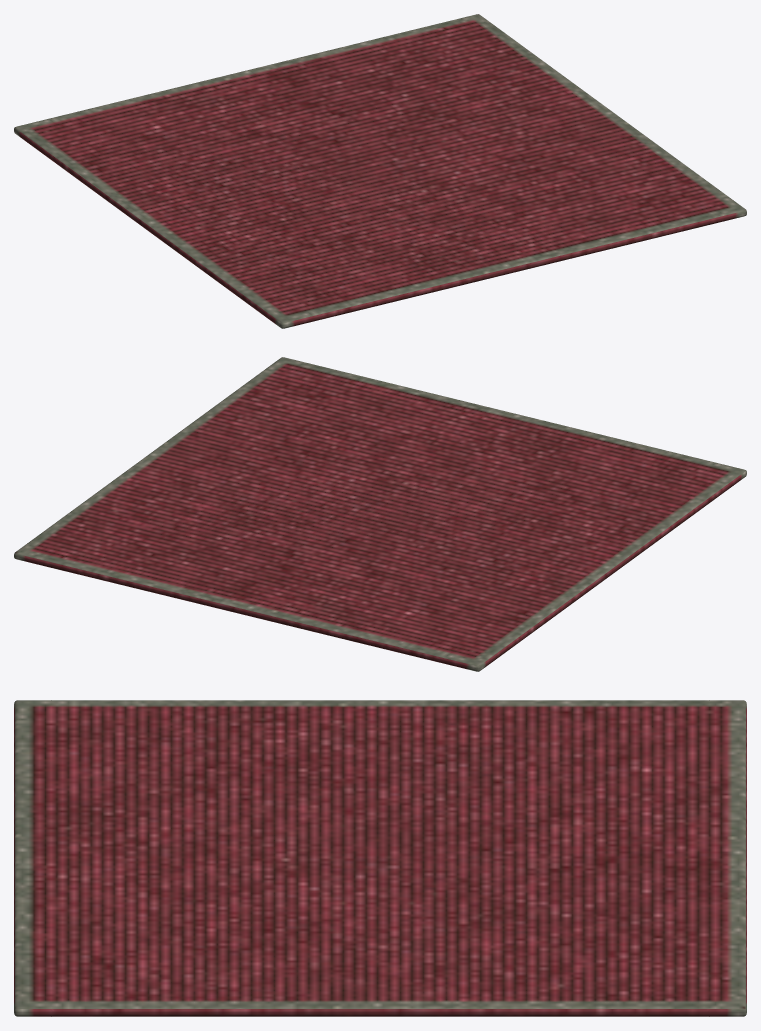
Rendered from carpet.fbx.
3 renders of one model, top to bottom at view 1: azimuth 30°, elevation 25°; view 2: azimuth 150°, elevation 25°; view 3: azimuth 270°, elevation 25°, orthographic. The views are drawn at different scales.
Parts seen in each view (by area): view 1: Cube.056; view 2: Cube.056; view 3: Cube.056.
Boxes of the visible parts, x1,y1,x2,y2 form: Cube.056: (14, 14, 746, 328); Cube.056: (14, 357, 746, 671); Cube.056: (14, 700, 746, 1016).
Bounding box in the file's own units: 399 × 399 × 5.71.
